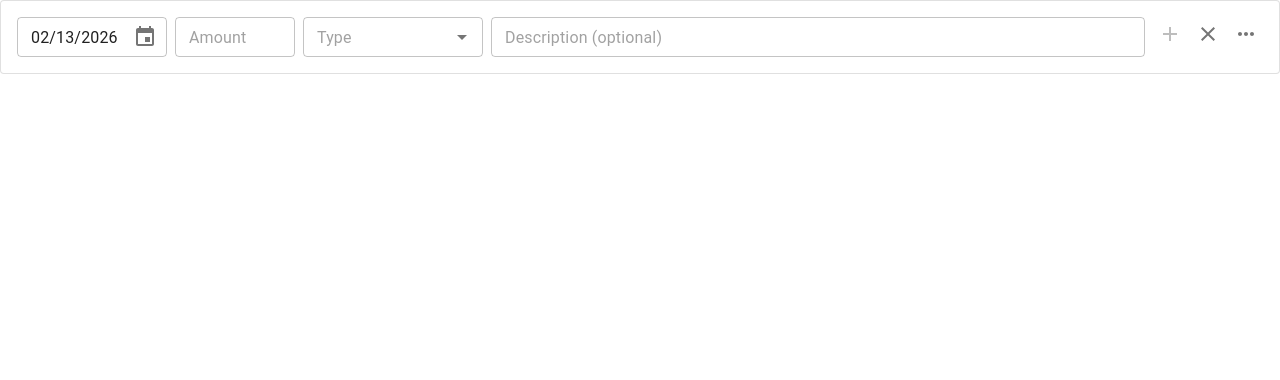
QuickEntryRow › should enable submit button when required fields are filled
Note: Fill required fields
Type "50.00" into the number field with placeholder "Amount" at (235, 37), box [175, 17, 295, 57]
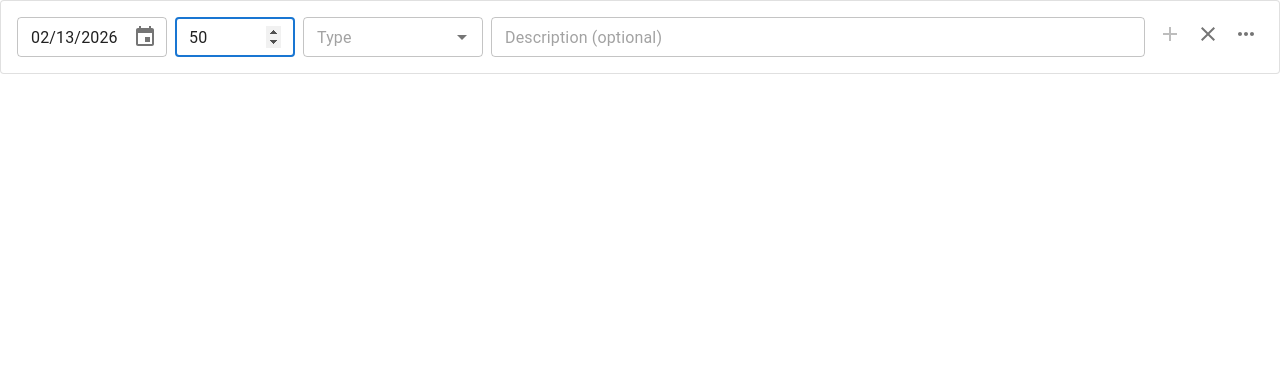
Click the dropdown at (376, 37), box [309, 23, 444, 51]
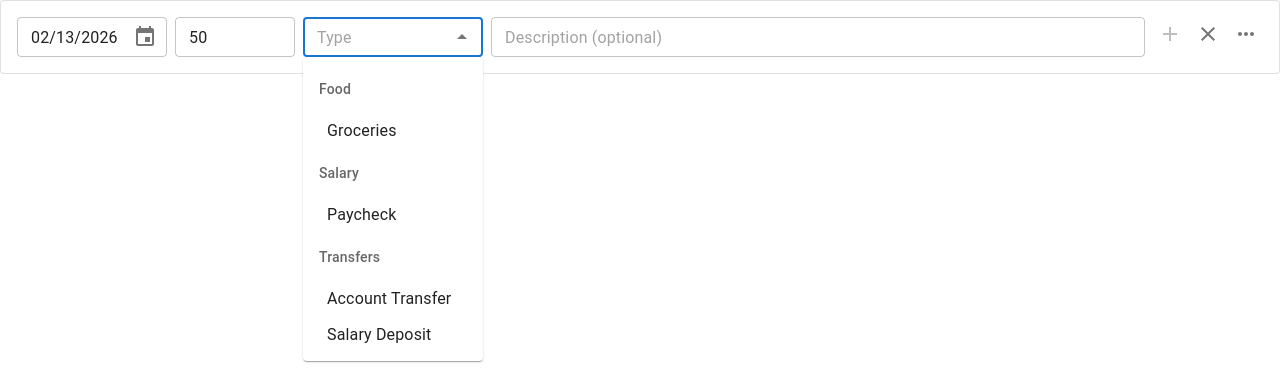
Click the option "Groceries" at (362, 130), box [327, 121, 397, 140]
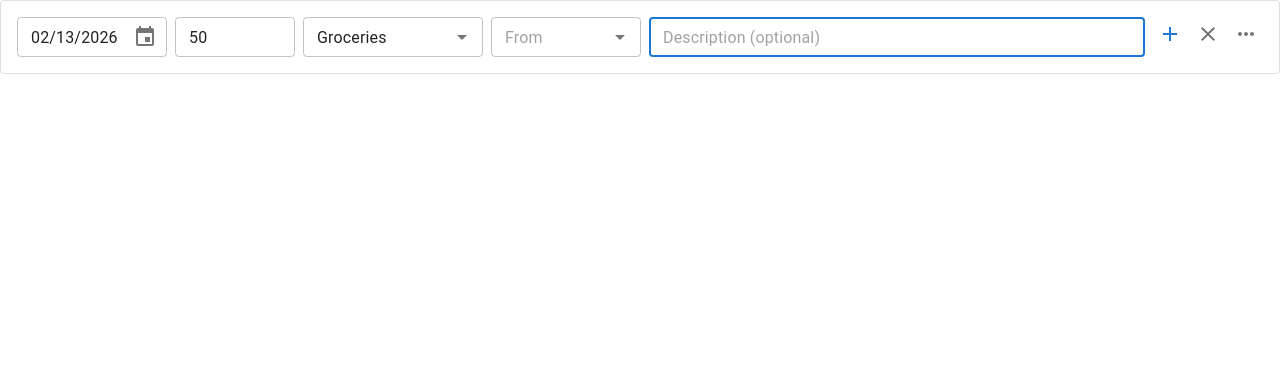
Check: the button named "Add transaction" is enabled, box [1153, 17, 1187, 51]
